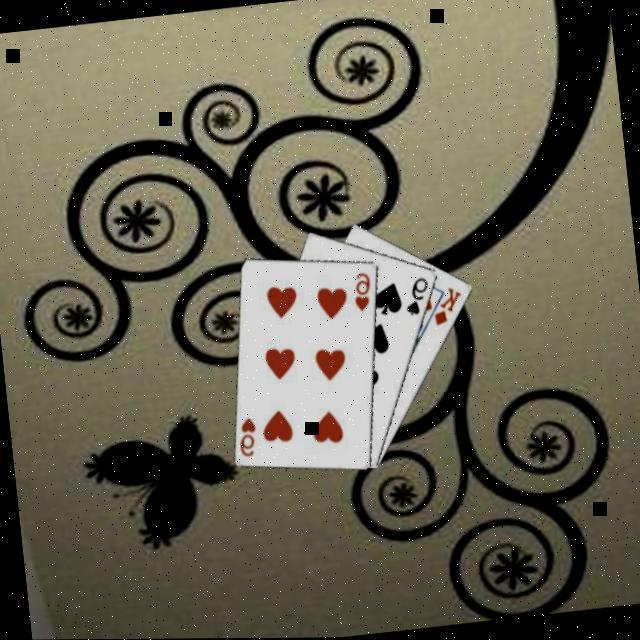6H: (233, 412, 260, 458), (348, 266, 374, 312)
9S: (398, 272, 432, 317)
KD: (428, 282, 466, 326)
